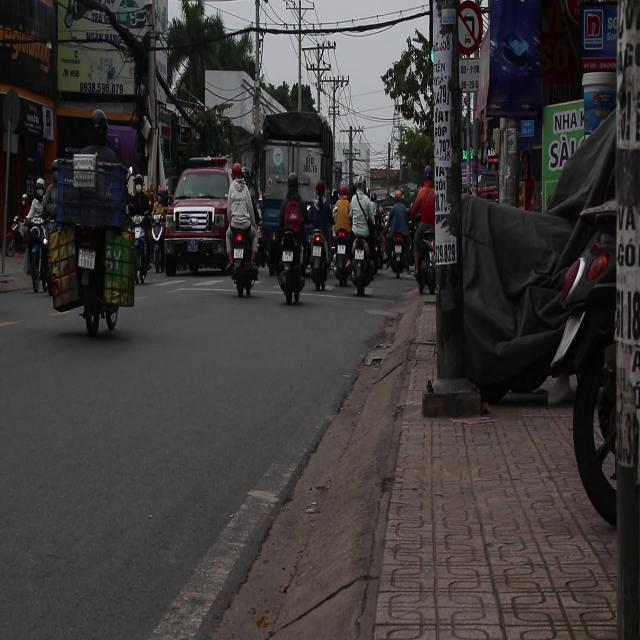motorbike: (75, 224, 134, 338), (304, 203, 334, 296), (275, 228, 309, 304), (24, 209, 53, 295), (228, 220, 258, 303), (135, 212, 168, 284), (348, 235, 377, 294)
truck: (162, 165, 232, 278)
